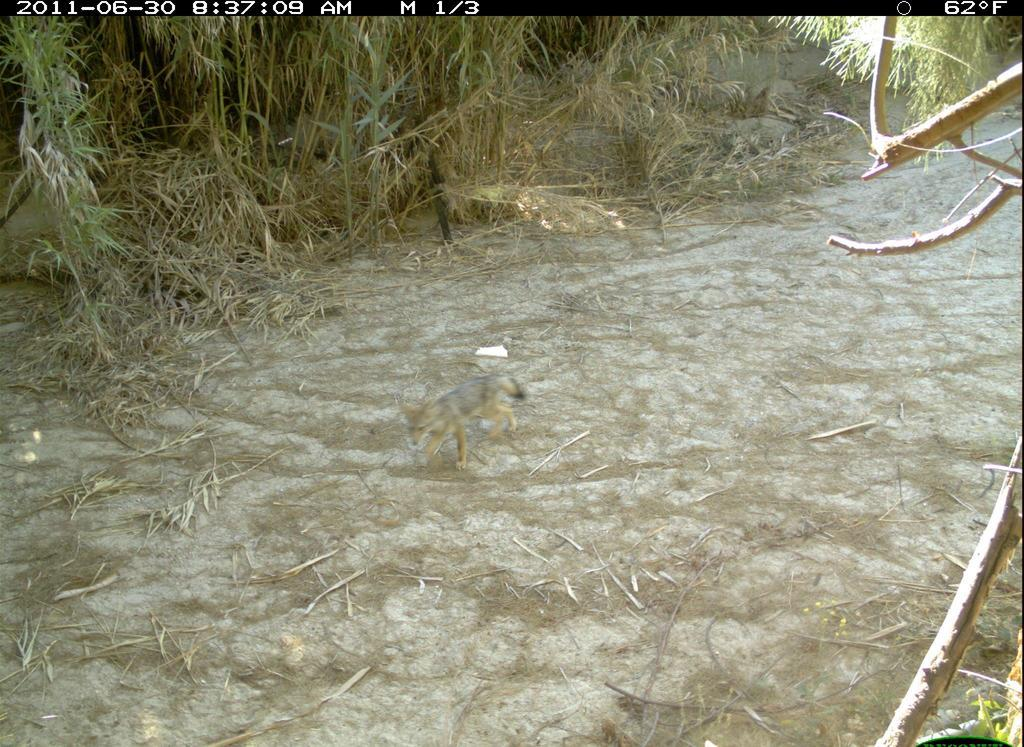coyote: (387, 365, 539, 475)
